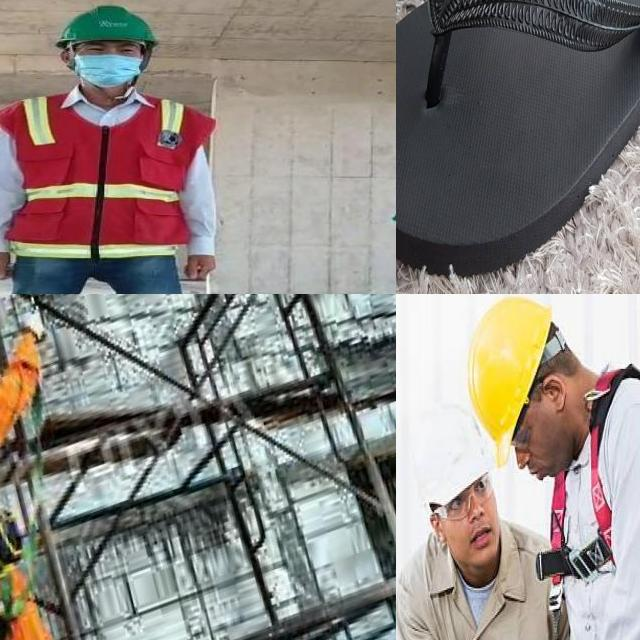Harness: (537, 364, 640, 580)
No_Ear-Protection: (55, 38, 77, 75)
Sandals: (396, 0, 640, 284)
face_mask: (74, 52, 144, 88)
hand_noglove: (172, 247, 225, 285), (0, 244, 20, 283)
person: (0, 3, 223, 294)
